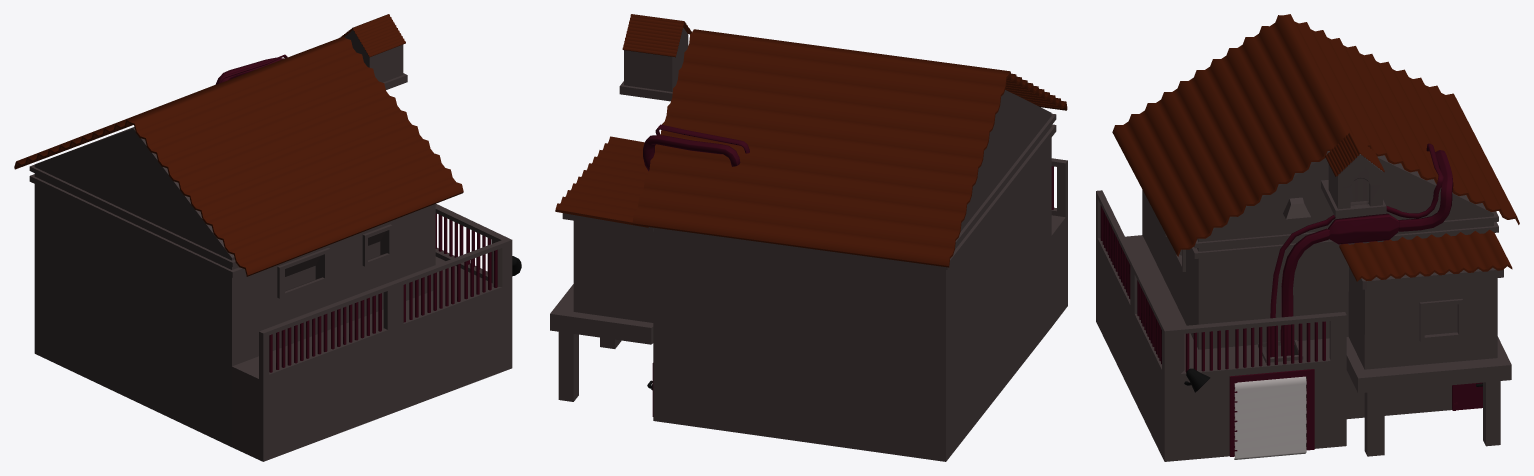
File: batiment1.fbx
The picture shows the model from 3 angles, left to right: view 1: azimuth 30°, elevation 25°; view 2: azimuth 150°, elevation 25°; view 3: azimuth 270°, elevation 25°; orthographic projection. The views are drawn at different scales.
Visible parts, largest first — view 1: base, toit, bare_fer, petit_maison, toit_mini; view 2: base, toit, toit_petit, petit_maison, toit_mini, gros_tuyau, petit_tuyau; view 3: base, toit, toit_petit, rideau_garage, bare_fer, gros_tuyau, petit_maison, porte_garage, petit_tuyau, toit_mini, porte.
Part boxes in pixels (x1,y1,x2,y2): base: [29, 127, 512, 461]; toit: [14, 36, 463, 276]; bare_fer: [269, 213, 497, 372]; petit_maison: [345, 30, 407, 89]; toit_mini: [339, 14, 405, 57]; base: [550, 90, 1067, 461]; toit: [632, 29, 1067, 267]; toit_petit: [555, 136, 655, 227]; petit_maison: [619, 28, 688, 101]; toit_mini: [622, 14, 691, 57]; gros_tuyau: [643, 135, 740, 171]; petit_tuyau: [655, 124, 749, 153]; base: [1096, 151, 1511, 461]; toit: [1112, 14, 1519, 256]; toit_petit: [1339, 229, 1512, 281]; rideau_garage: [1234, 376, 1306, 459]; bare_fer: [1100, 205, 1325, 372]; gros_tuyau: [1280, 150, 1453, 356]; petit_maison: [1321, 154, 1386, 217]; porte_garage: [1229, 369, 1314, 456]; petit_tuyau: [1270, 143, 1443, 357]; toit_mini: [1325, 132, 1384, 176]; porte: [1452, 382, 1482, 410].
Size of the model in its own units: 297 by 219 by 281.
